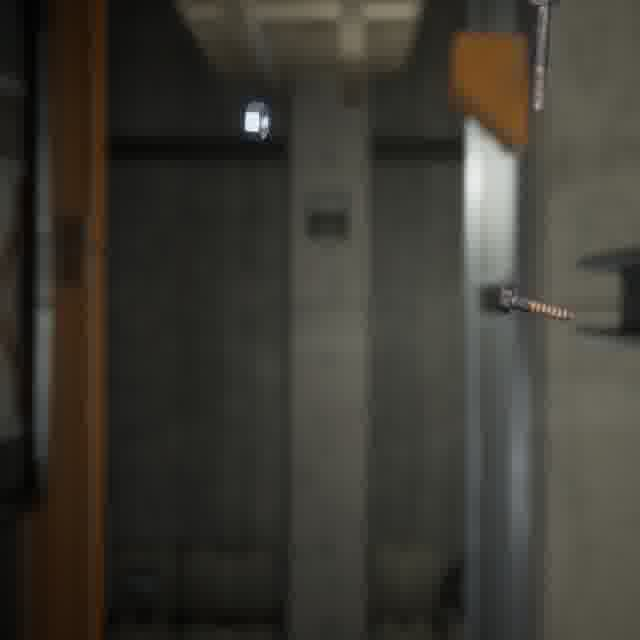bolt: (523, 0, 563, 115), (494, 279, 579, 325)
nut: (240, 97, 274, 144)
